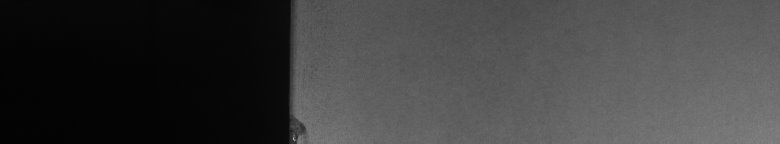hb: (300, 112, 312, 136)
